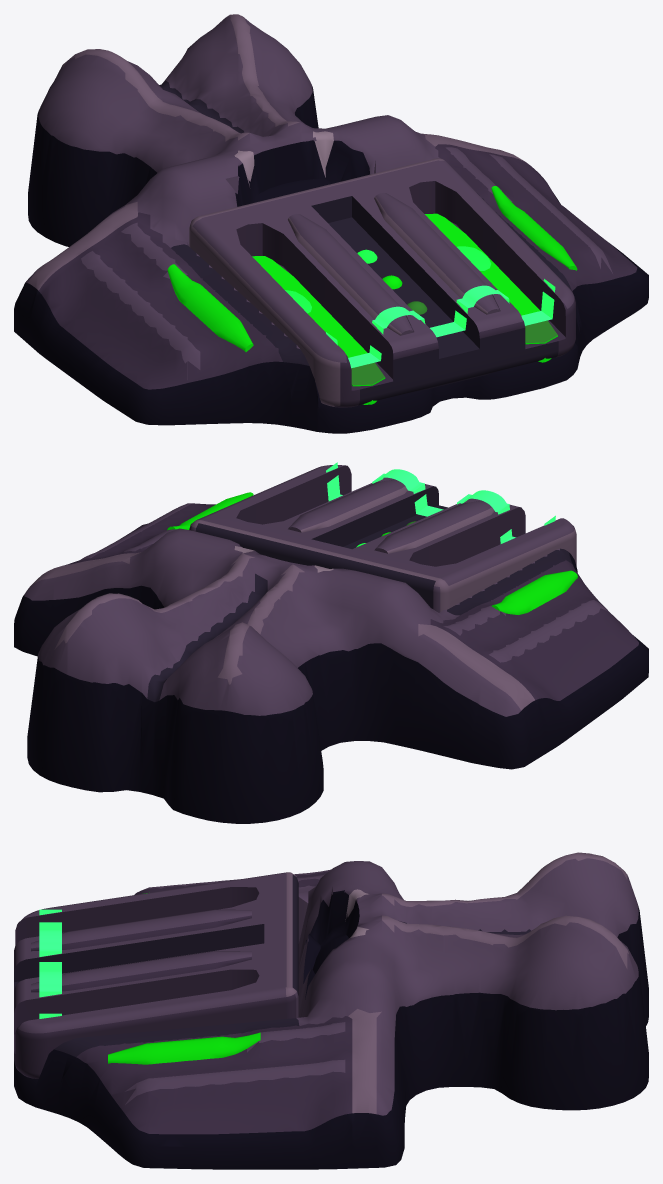
The model's file is purple_beacon_17.glb.
3 views of the same model, one above another, from view 1: azimuth 30°, elevation 25°; view 2: azimuth 150°, elevation 25°; view 3: azimuth 270°, elevation 25° (orthographic). The views are drawn at different scales.
Visible parts, largest first — view 1: body, block, ridge1, ridge-1, bar, floor-1, strip1, floor1, strip-1; view 2: body, block, ridge-1, ridge1, bar, strip1, strip-1; view 3: body, block, ridge-1, ridge1, strip-1, bar.
Boxes of the visible parts, x1,y1,x2,y2 form: body: (14, 14, 648, 433); block: (189, 158, 575, 407); ridge1: (374, 192, 500, 314); ridge-1: (288, 214, 413, 335); bar: (326, 279, 555, 368); floor-1: (252, 256, 385, 404); strip1: (167, 264, 253, 351); floor1: (425, 213, 557, 362); strip-1: (491, 186, 577, 270); body: (14, 503, 648, 823); block: (189, 465, 576, 612); ridge-1: (374, 500, 494, 553); ridge1: (288, 479, 407, 532); bar: (326, 462, 555, 543); strip1: (491, 570, 577, 614); strip-1: (167, 492, 253, 530); body: (14, 852, 648, 1169); block: (14, 872, 298, 1078); ridge-1: (31, 909, 251, 951); ridge1: (31, 951, 251, 992); strip-1: (108, 1032, 260, 1064); bar: (39, 909, 61, 1018).
Bounding box in the file's own units: 24 × 7.25 × 26.
